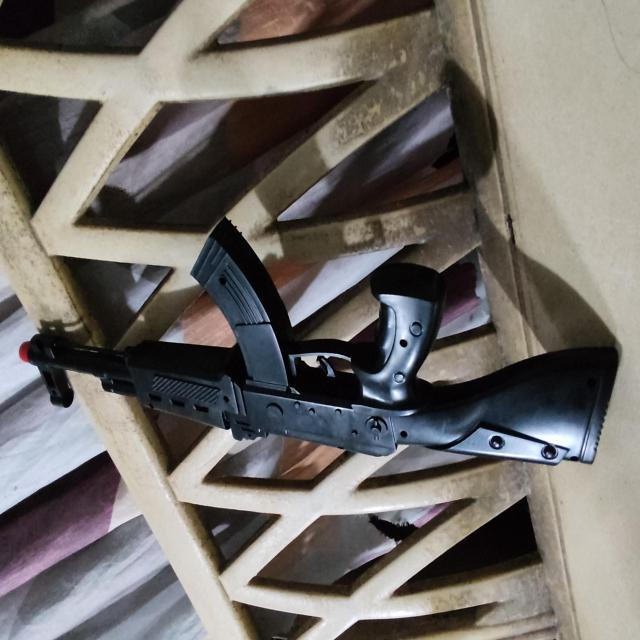rifle: (18, 218, 618, 464)
